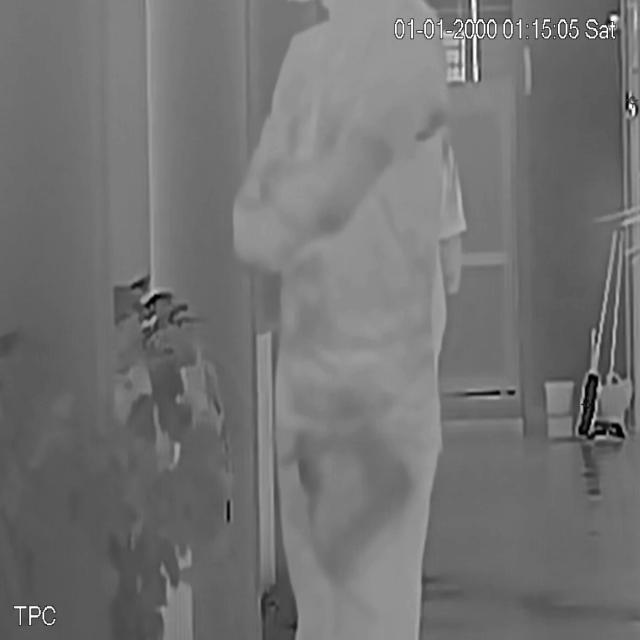Weapon: (314, 441, 427, 591)
